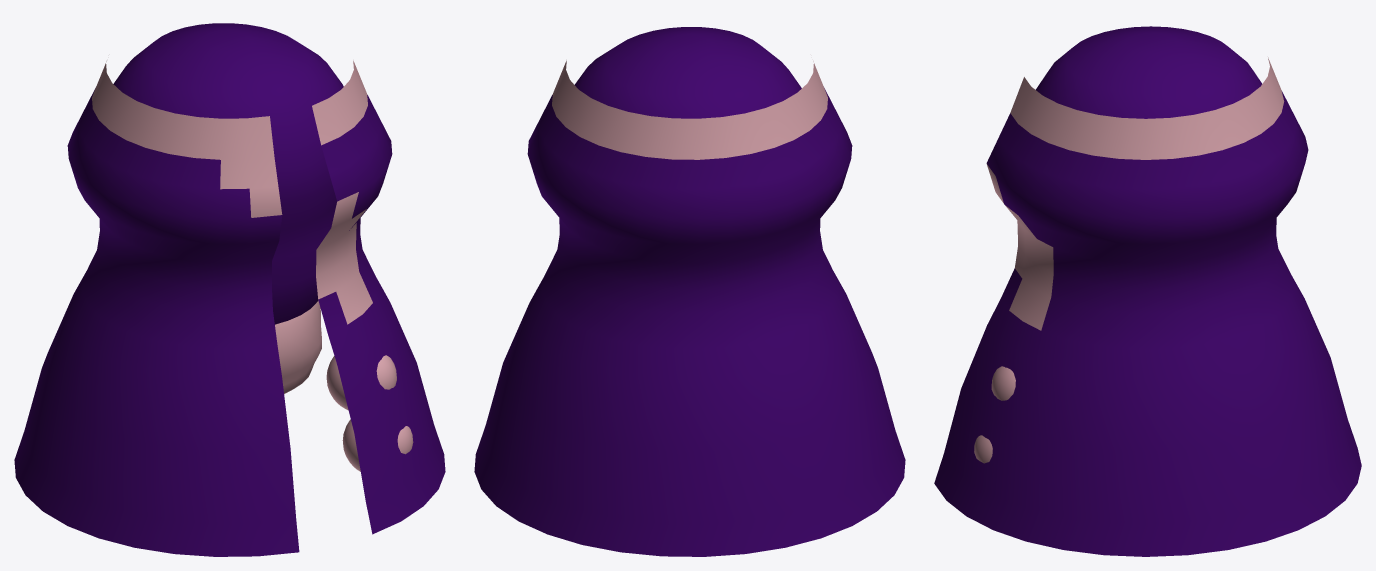
Rendered from body.gltf.
3 renders of one model, left to right at view 1: azimuth 30°, elevation 25°; view 2: azimuth 150°, elevation 25°; view 3: azimuth 270°, elevation 25°, orthographic.
Visible parts, largest first — view 1: Sphere.172, body.036, Sphere.165, Sphere.167, Sphere.166; view 2: Sphere.172, body.036; view 3: Sphere.172, body.036, Sphere.167.
Boxes of the visible parts, box(x1,y1,x2,y2) form: Sphere.172: box(14, 60, 445, 556); body.036: box(113, 23, 343, 324); Sphere.165: box(275, 300, 321, 393); Sphere.167: box(326, 355, 396, 410); Sphere.166: box(342, 419, 413, 471); Sphere.172: box(474, 60, 905, 556); body.036: box(574, 27, 801, 118); Sphere.172: box(934, 57, 1361, 556); body.036: box(1035, 26, 1261, 118); Sphere.167: box(991, 366, 1015, 400).
Size of the model in its own units: 0.3694 by 0.3989 by 0.3659.
2 materials, 2 textured.
